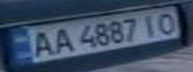4: (75, 21, 96, 48)
7: (121, 16, 142, 42)
8: (93, 20, 112, 47), (109, 18, 127, 45)
A: (24, 28, 57, 60), (45, 25, 75, 54)
I: (139, 11, 163, 37)
O: (151, 10, 181, 35)
